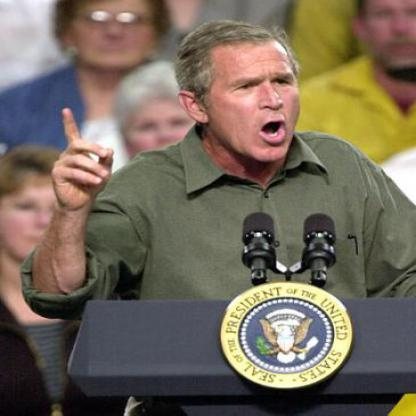face: (204, 24, 311, 165), (1, 153, 78, 265), (125, 78, 206, 175), (73, 1, 161, 72)
